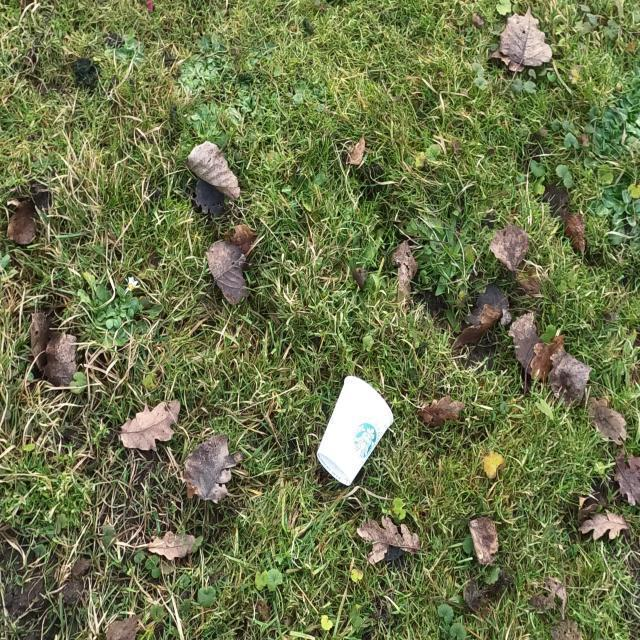Cup: (318, 374, 392, 486)
